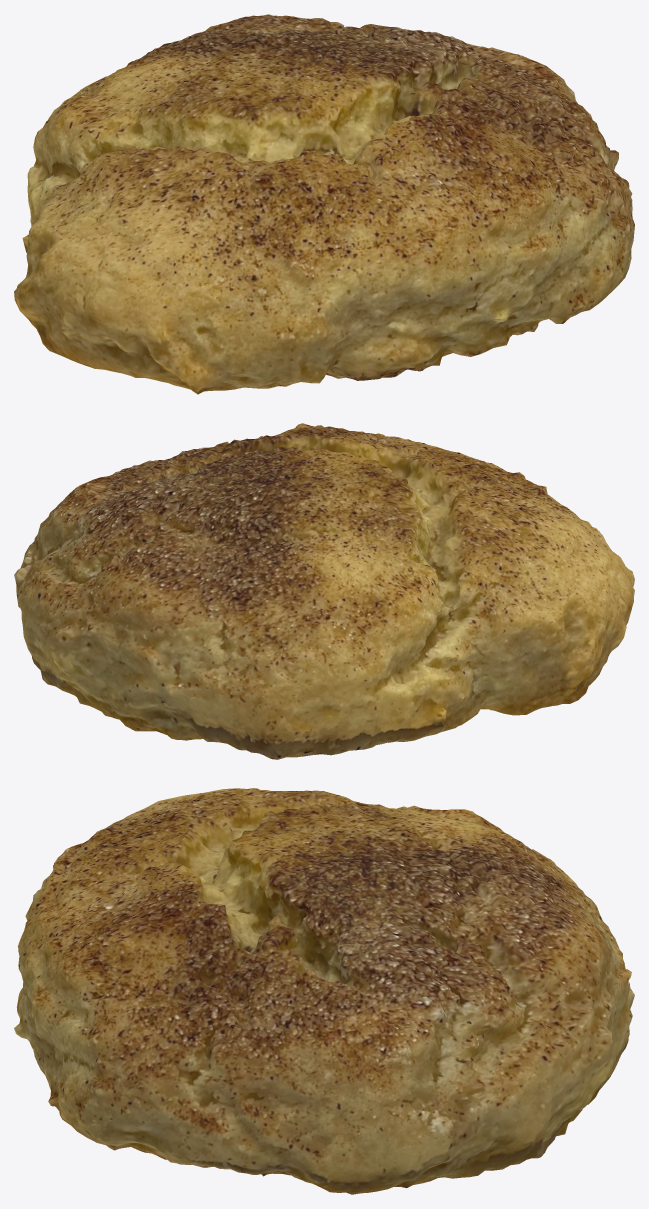
Rendered from scone.glb.
3 views of the same model, one above another, from view 1: azimuth 30°, elevation 25°; view 2: azimuth 150°, elevation 25°; view 3: azimuth 270°, elevation 25° (orthographic). The views are drawn at different scales.
Visible parts, largest first — view 1: Object_4; view 2: Object_4; view 3: Object_4.
Boxes of the visible parts, x1,y1,x2,y2 form: Object_4: [14, 14, 634, 394]; Object_4: [14, 423, 634, 759]; Object_4: [14, 788, 634, 1194].
Bounding box in the file's own units: 0.0638 × 0.0226 × 0.0554.
1 material, 1 textured.
